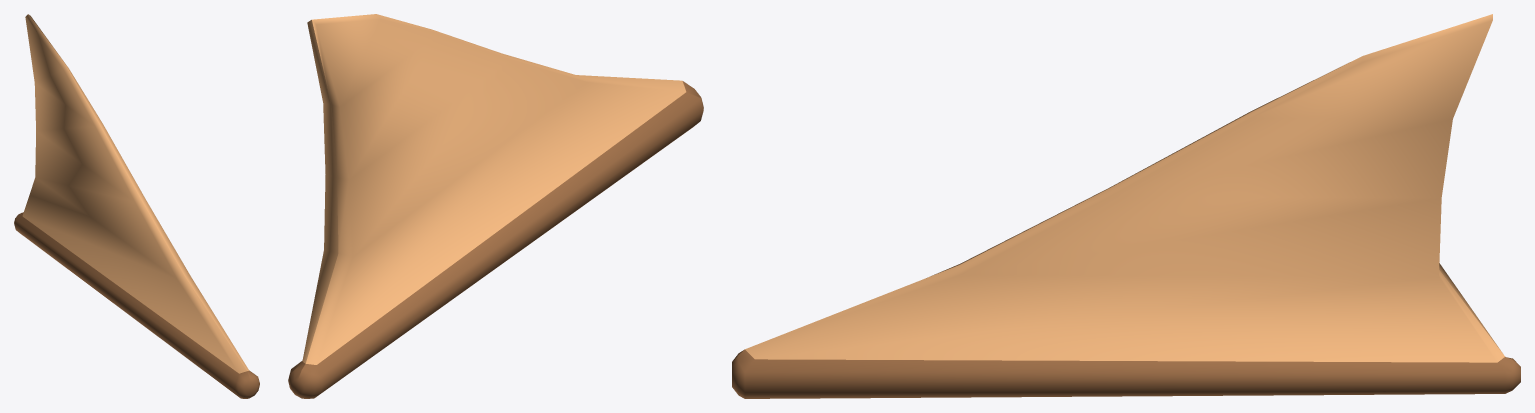
Rendered from Shark Fin.fbx.
The picture shows the model from 3 angles, left to right: view 1: azimuth 30°, elevation 25°; view 2: azimuth 150°, elevation 25°; view 3: azimuth 270°, elevation 25°; orthographic projection. The views are drawn at different scales.
Visible parts, largest first — view 1: Shark Fin - maromv (MAVG); view 2: Shark Fin - maromv (MAVG); view 3: Shark Fin - maromv (MAVG).
Boxes of the visible parts, x1,y1,x2,y2 form: Shark Fin - maromv (MAVG): (14, 14, 259, 398); Shark Fin - maromv (MAVG): (288, 14, 703, 398); Shark Fin - maromv (MAVG): (732, 14, 1520, 398).
Size of the model in its own units: 3.62 by 31.01 by 57.92.
